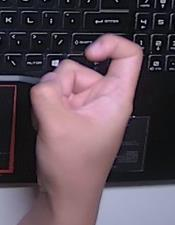anticlockwise: (30, 32, 145, 189)
